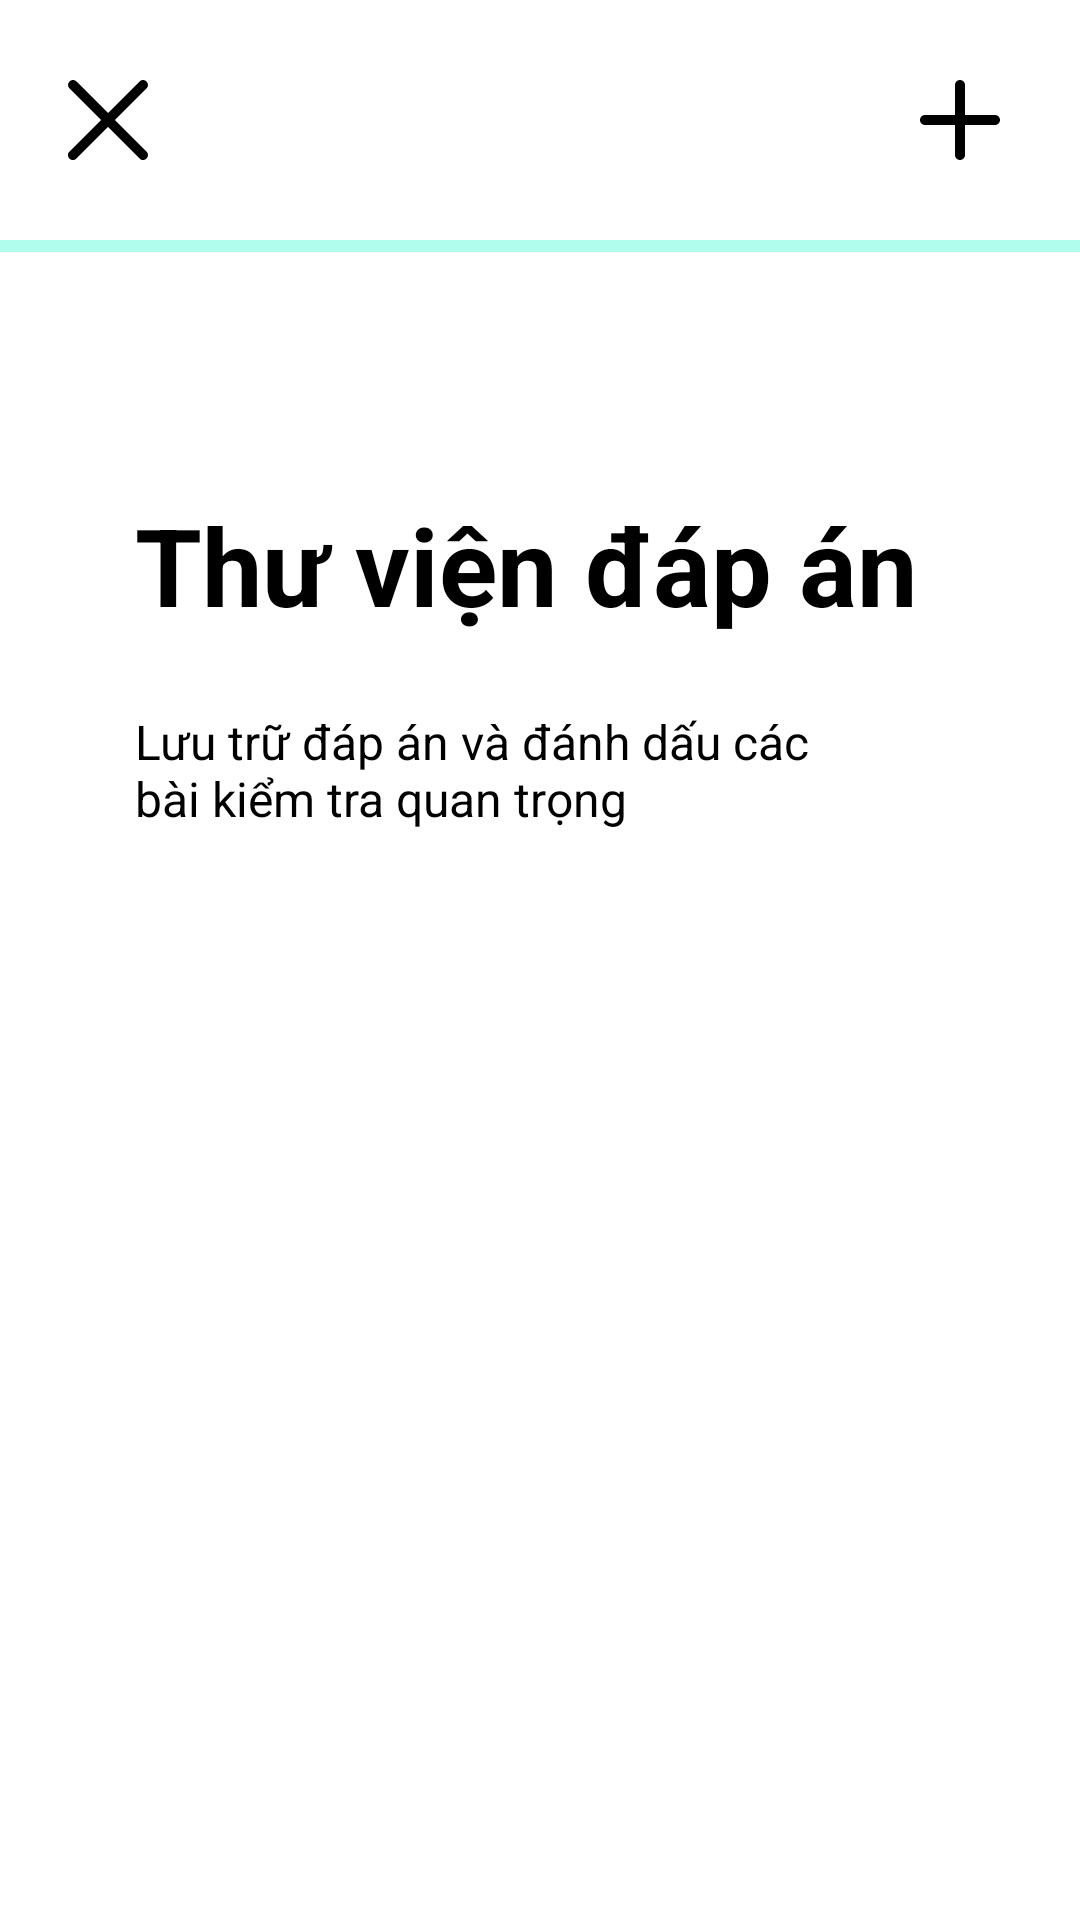

Named icons in this screenshot (1080 x 1920) and their bounding boxes, (x1, y1, x2, y2):
exit: (68, 80, 148, 160)
newtest: (920, 80, 1000, 160)
